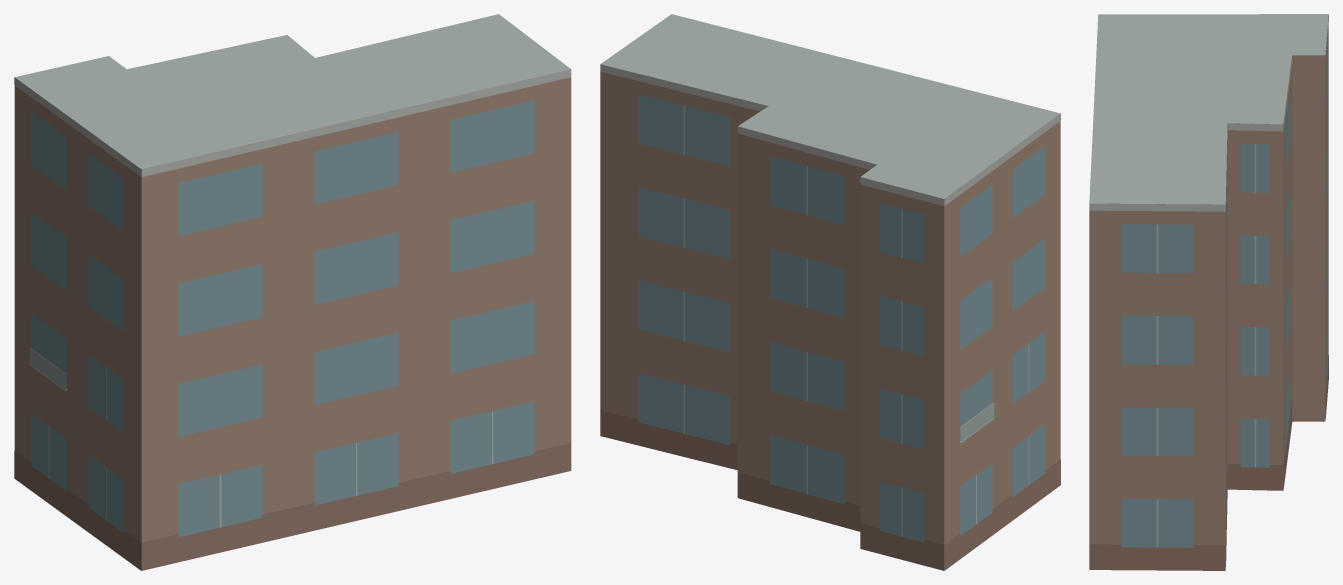
File: survey-upis-32459470.glb
The picture shows the model from 3 angles, left to right: view 1: azimuth 30°, elevation 25°; view 2: azimuth 150°, elevation 25°; view 3: azimuth 270°, elevation 25°; orthographic projection. The views are drawn at different scales.
Parts seen in each view (by area): view 1: survey-upis-32459470.tmp; view 2: survey-upis-32459470.tmp; view 3: survey-upis-32459470.tmp.
Boxes of the visible parts, x1=… form: survey-upis-32459470.tmp: x1=14, y1=14, x2=571, y2=570; survey-upis-32459470.tmp: x1=600, y1=14, x2=1060, y2=570; survey-upis-32459470.tmp: x1=1089, y1=14, x2=1328, y2=570.
Bounding box in the file's own units: 13.99 × 12.5 × 7.41.
